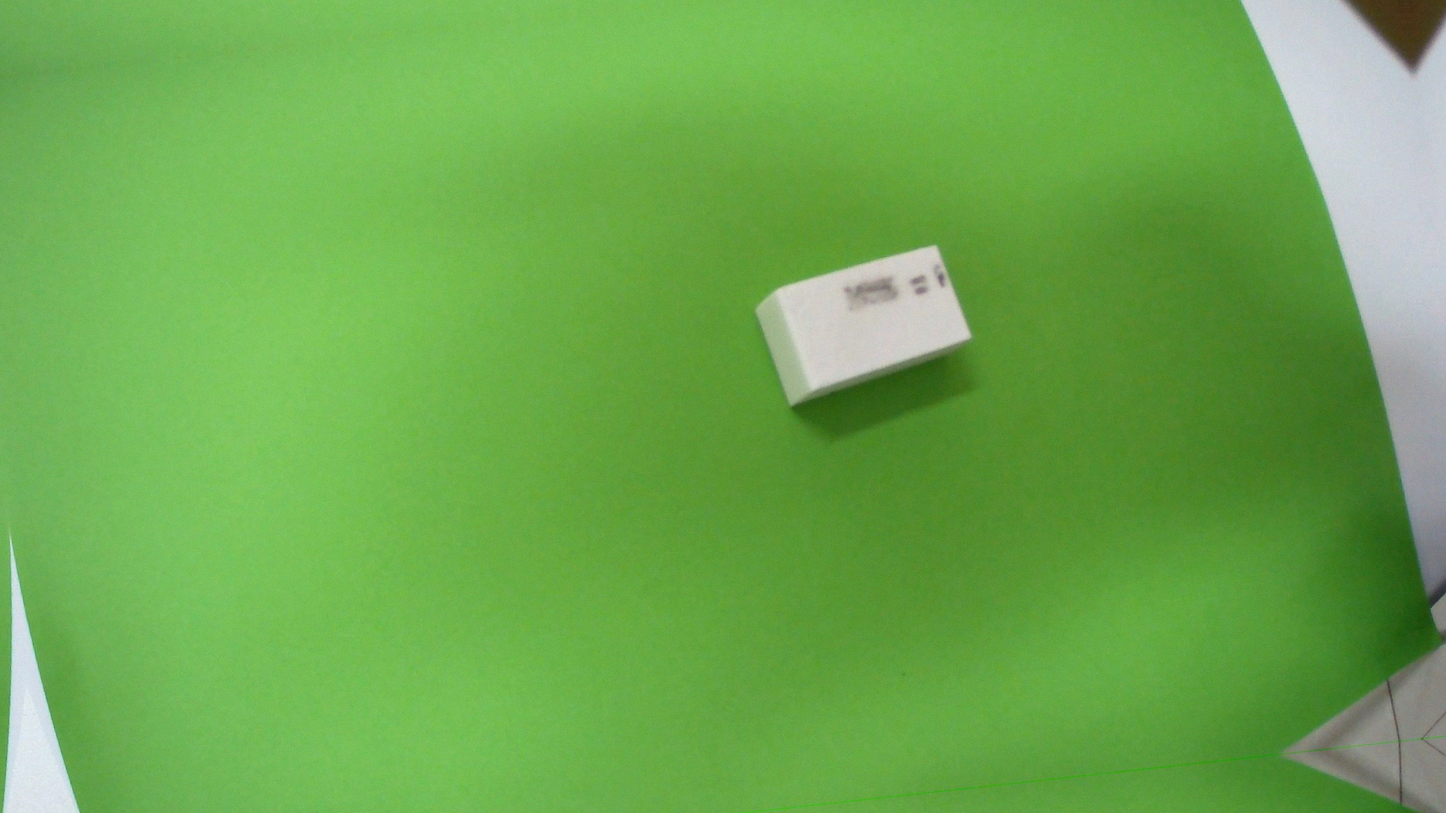gom: (751, 234, 975, 416)
